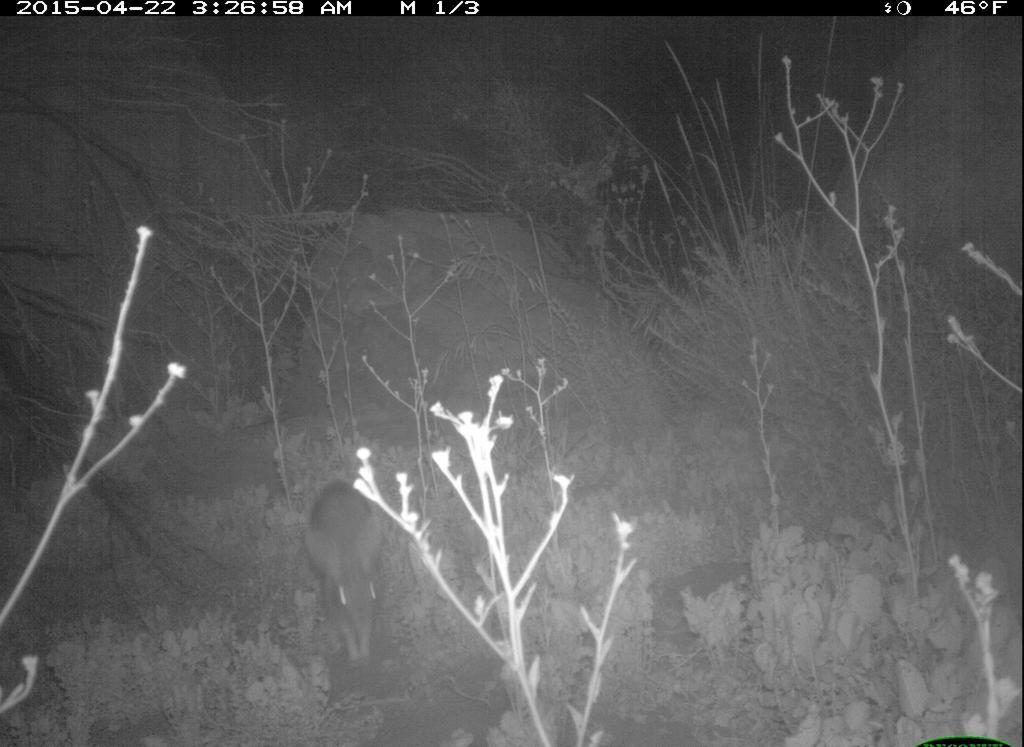rabbit: (297, 469, 397, 683)
